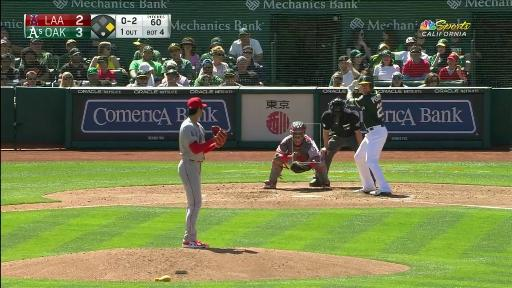pitcher: (178, 97, 227, 247)
